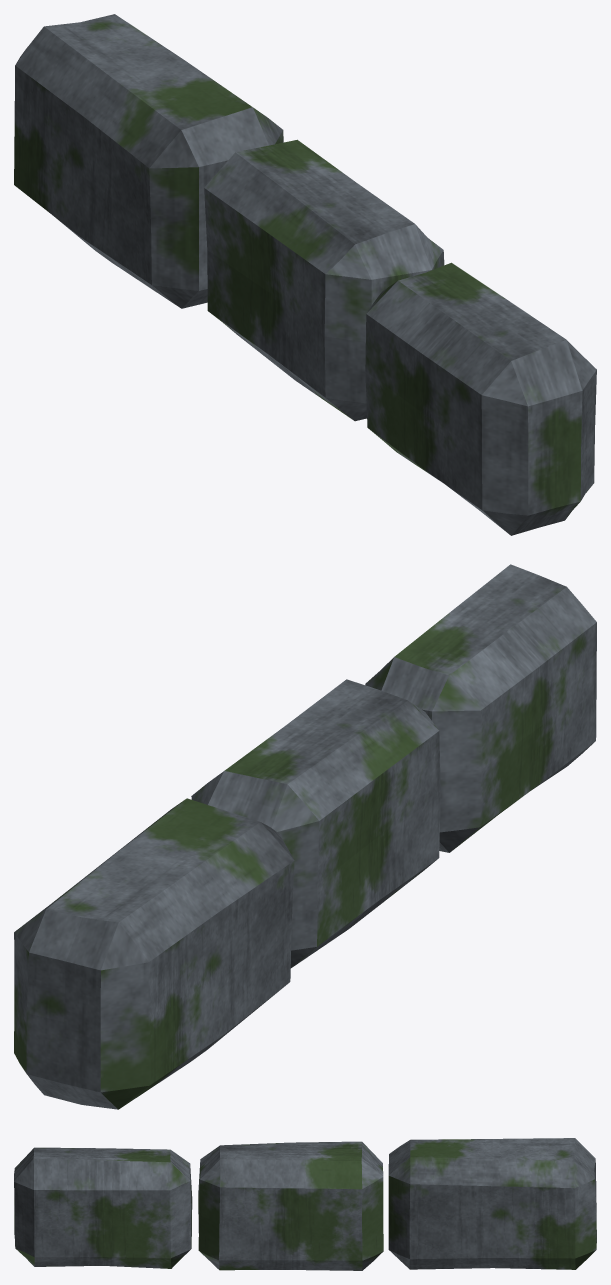
The model's file is Bell_Edging_Kerb.glb.
3 renders of one model, top to bottom at view 1: azimuth 30°, elevation 25°; view 2: azimuth 150°, elevation 25°; view 3: azimuth 270°, elevation 25°, orthographic. The views are drawn at different scales.
Parts seen in each view (by area): view 1: Bell_Edging_Kerb__Stone; view 2: Bell_Edging_Kerb__Stone; view 3: Bell_Edging_Kerb__Stone.
Part boxes in pixels (<box>): Bell_Edging_Kerb__Stone: <box>14,14,596,535</box>; Bell_Edging_Kerb__Stone: <box>14,564,596,1109</box>; Bell_Edging_Kerb__Stone: <box>14,1138,596,1270</box>.
Bounding box in the file's own units: 1.32 × 1.69 × 7.91.
Materials: 1 (1 with a texture image).
